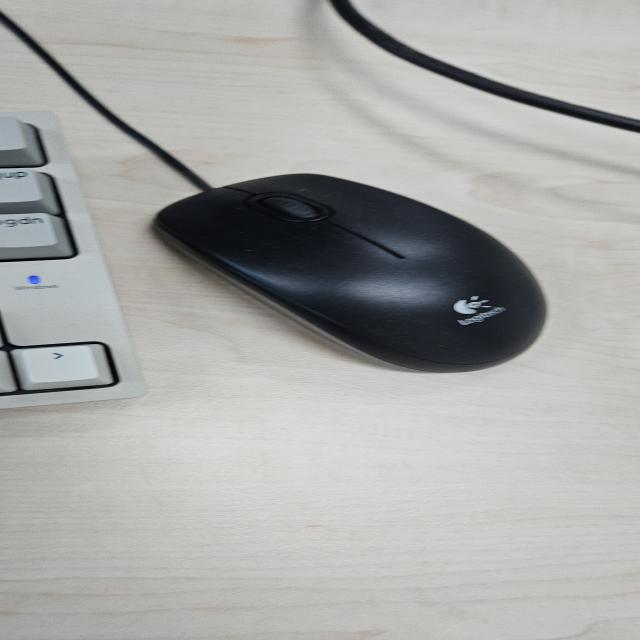Keyboard: (1, 110, 148, 410)
Mouse: (149, 171, 551, 374)
